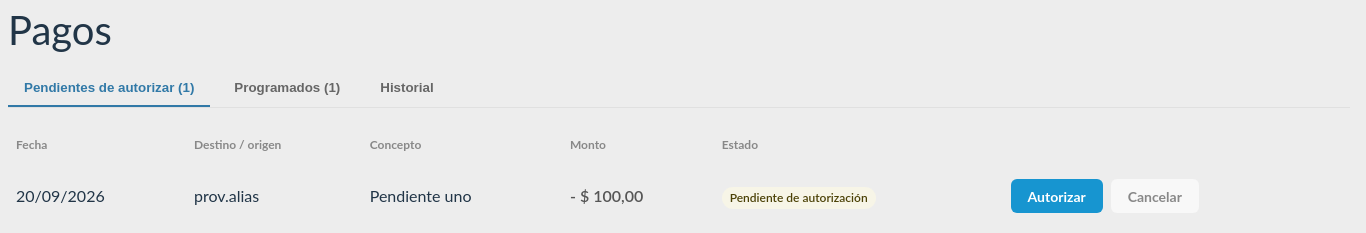
Test case: Payments page › shows scheduled payments without actions
Click the tab "Programados (1)" at (287, 88), box [218, 70, 356, 107]
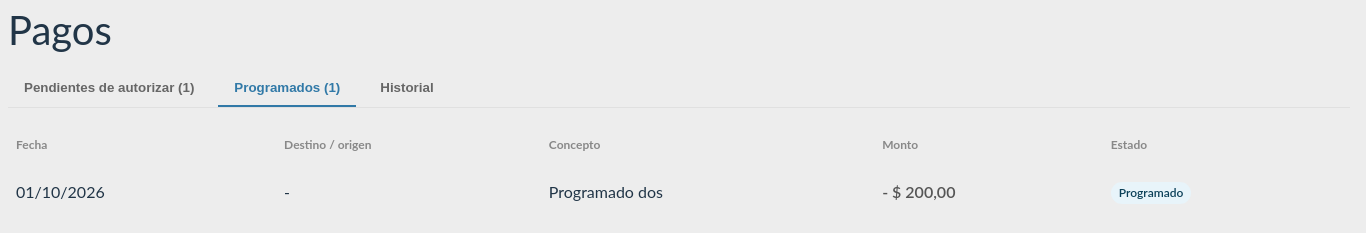
Expected: the text "Programado dos" is shown, [541, 166, 874, 216]
Expected: the text "01/10/2026" is shown, [8, 166, 276, 216]
Expected: the button "Cancelar" is gone
